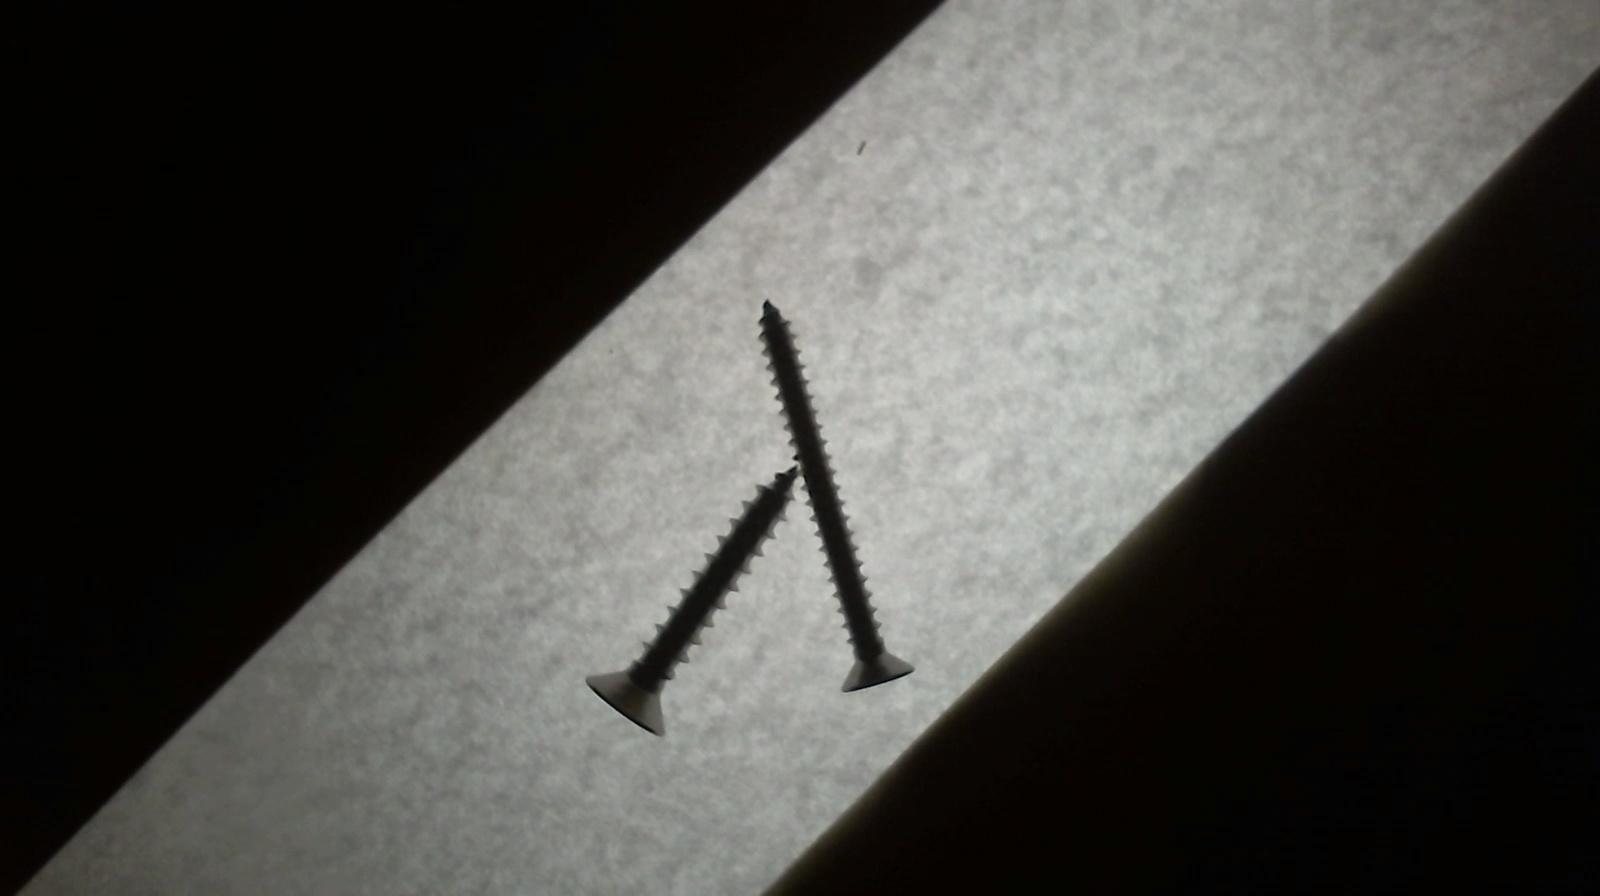S001: (575, 458, 802, 739)
S002: (755, 297, 916, 695)
